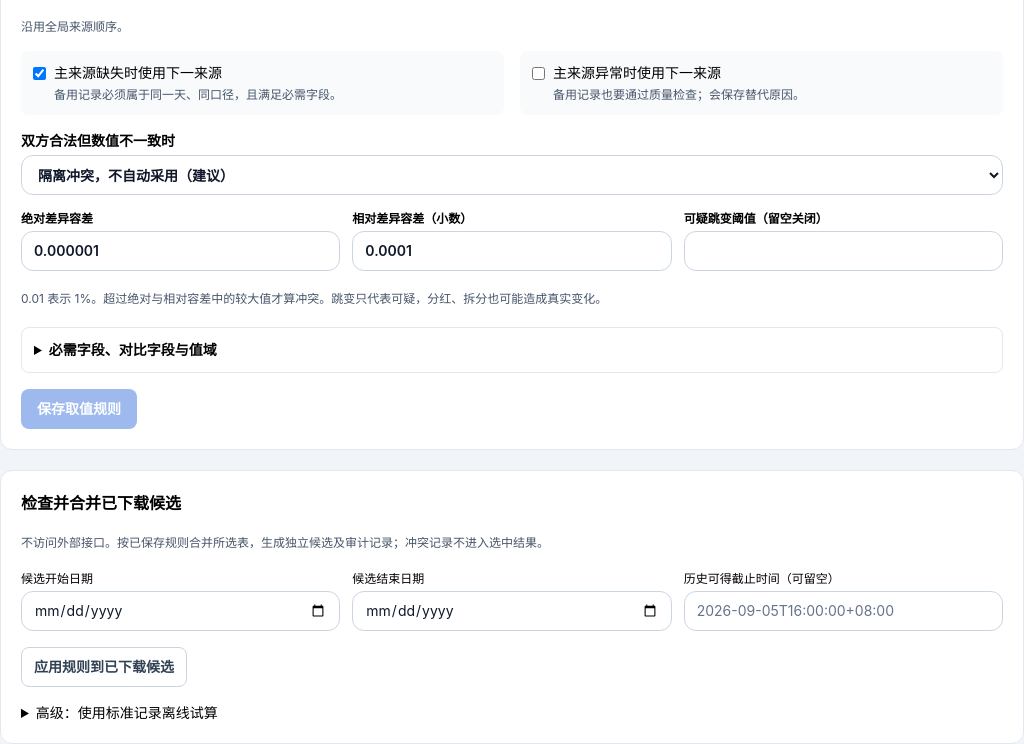
Test: ResolutionPanel › 合并只作用于已下载候选，并显示冲突和未发布状态
This screenshot has width=1024, height=744.
(page scrolled)
Click the button "应用规则到已下载候选" at coordinates (104, 667), box [21,647,187,687]
(page scrolled)
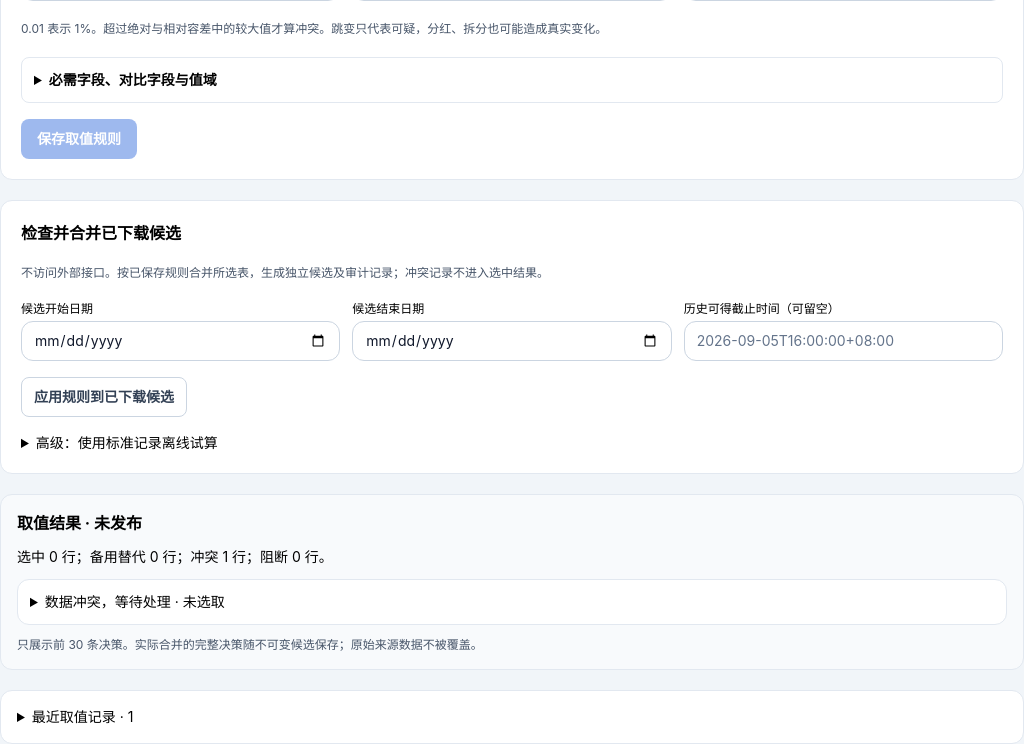
Check: the element named "多源取值结果" shows "取值结果 · 未发布", box [17,513,142,533]
Check: the heading "数据冲突，等待处理 · 未选取" is shown, box [45,593,225,610]
